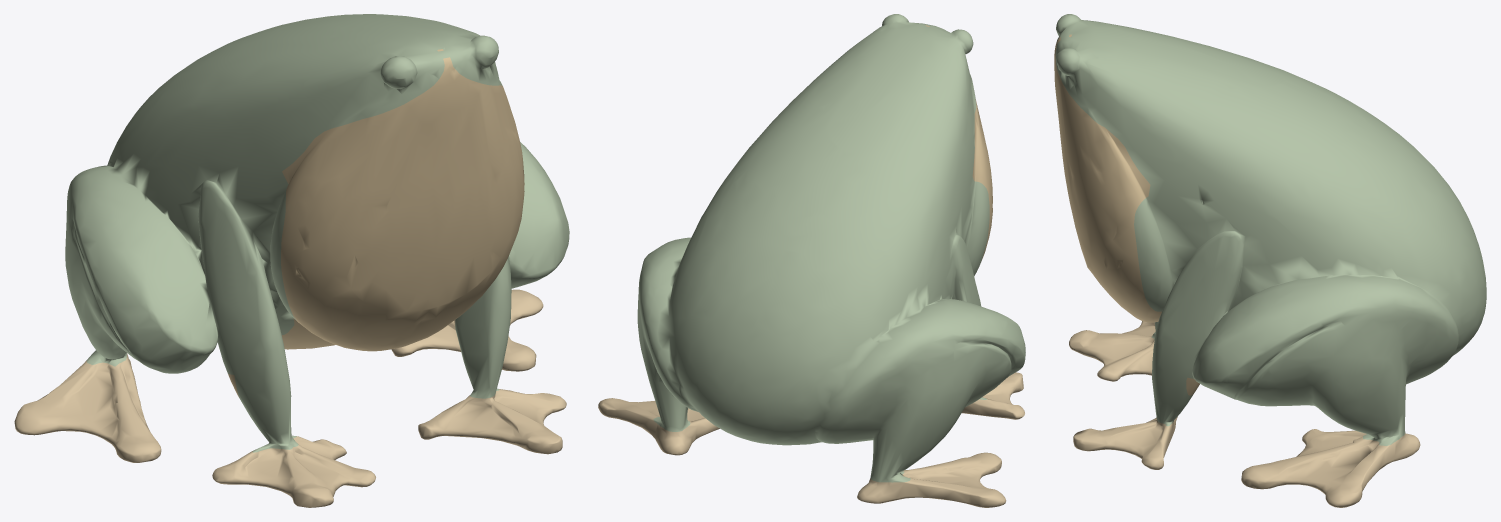
Rendered from body.glb.
3 renders of one model, left to right at view 1: azimuth 30°, elevation 25°; view 2: azimuth 150°, elevation 25°; view 3: azimuth 270°, elevation 25°, orthographic. The views are drawn at different scales.
Parts seen in each view (by area): view 1: toad; view 2: toad; view 3: toad.
Part boxes in pixels (x1,y1,x2,y2): toad: (14, 14, 569, 507); toad: (598, 14, 1025, 507); toad: (1054, 14, 1486, 507).
Size of the model in its own units: 2.69 by 2.2 by 2.3.
